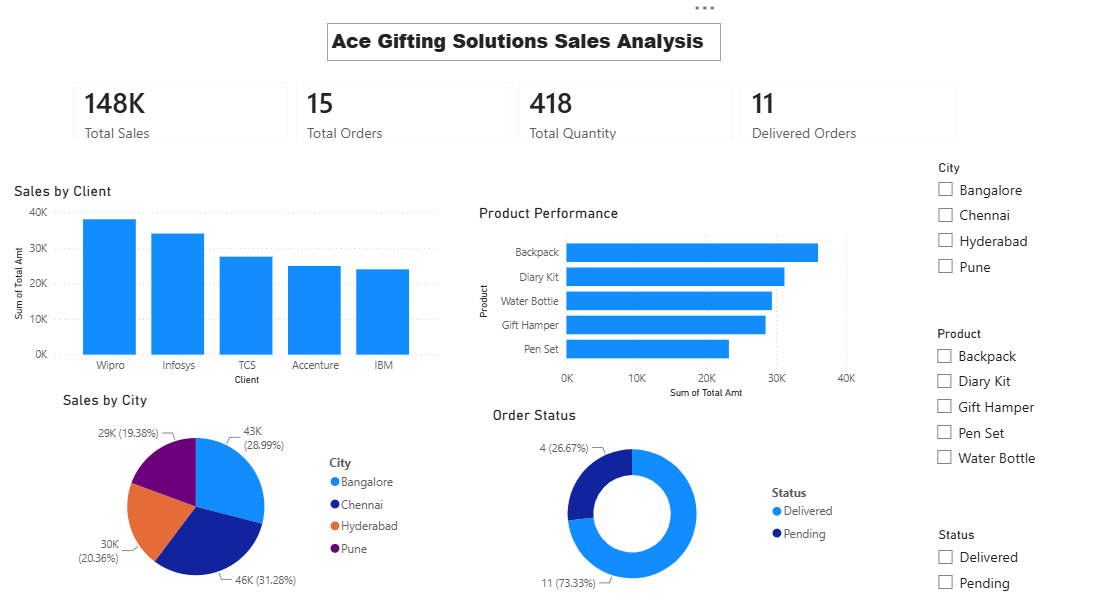

The dashboard page shown, as its layout file describes it:
{"tool":"powerbi","page":{"name":"Page 1","canvas":[1280,720],"ordinal":0},"visuals":[{"type":"clusteredColumnChart","title":"Sales by Client","fields":{"Category":["Sheet1.Client"],"Y":["Sum(Sheet1.Total Amt)"]},"box":[14.2,220.7,493,236.7],"z":0},{"type":"pieChart","title":"Sales by City","fields":{"Y":["Sum(Sheet1.Total Amt)"],"Series":["Sheet1.Location"]},"box":[69.4,457.4,400.5,243.8],"z":1},{"type":"clusteredBarChart","title":"Product Performance","fields":{"Category":["Sheet1.Product"],"Y":["Sum(Sheet1.Total Amt)"]},"box":[542.8,245.6,437.8,226],"z":2},{"type":"donutChart","title":"Order Status","fields":{"Category":["Sheet1.Status"],"Y":["CountNonNull(Sheet1.OrderID)"]},"box":[559.6,474.8,405.8,226],"z":3},{"type":"slicer","fields":{"Values":["Sheet1.Location"]},"box":[1057.9,190.1,128.1,153.1],"z":4},{"type":"slicer","fields":{"Values":["Sheet1.Product"]},"box":[1057.2,379.1,154.8,190.4],"z":5},{"type":"slicer","fields":{"Values":["Sheet1.Status"]},"box":[1057.9,608.3,128.1,92.5],"z":6},{"type":"cardVisual","fields":{"Data":["Sheet1.Total Sales","Sheet1.Total Orders","Sheet1.Total Quantity","Sheet1.Delivered Orders"]},"box":[69.4,89,1041.2,101.4],"z":7},{"type":"textbox","title":"ace","box":[375.5,39.2,448.5,42.7],"z":8}]}

Visuals, with their boxes in screenshot pixels (x1, y1, x2, y2), scaled from the page's 1280x720 canvas onto the 1101x611 screenshot:
"Sales by Client" clusteredColumnChart: bbox(12, 187, 436, 388)
"Sales by City" pieChart: bbox(60, 388, 404, 595)
"Product Performance" clusteredBarChart: bbox(467, 208, 843, 400)
"Order Status" donutChart: bbox(481, 403, 830, 595)
slicer - Sheet1.Location: bbox(910, 161, 1020, 291)
slicer - Sheet1.Product: bbox(909, 322, 1043, 483)
slicer - Sheet1.Status: bbox(910, 516, 1020, 595)
cardVisual - Sheet1.Total Sales x Sheet1.Total Orders: bbox(60, 76, 955, 162)
"ace" textbox: bbox(323, 33, 709, 70)
